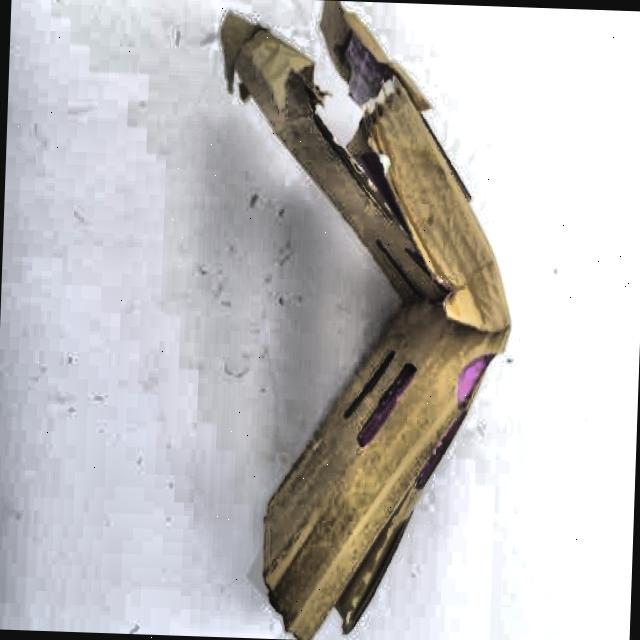cardboard: (195, 0, 524, 640)
